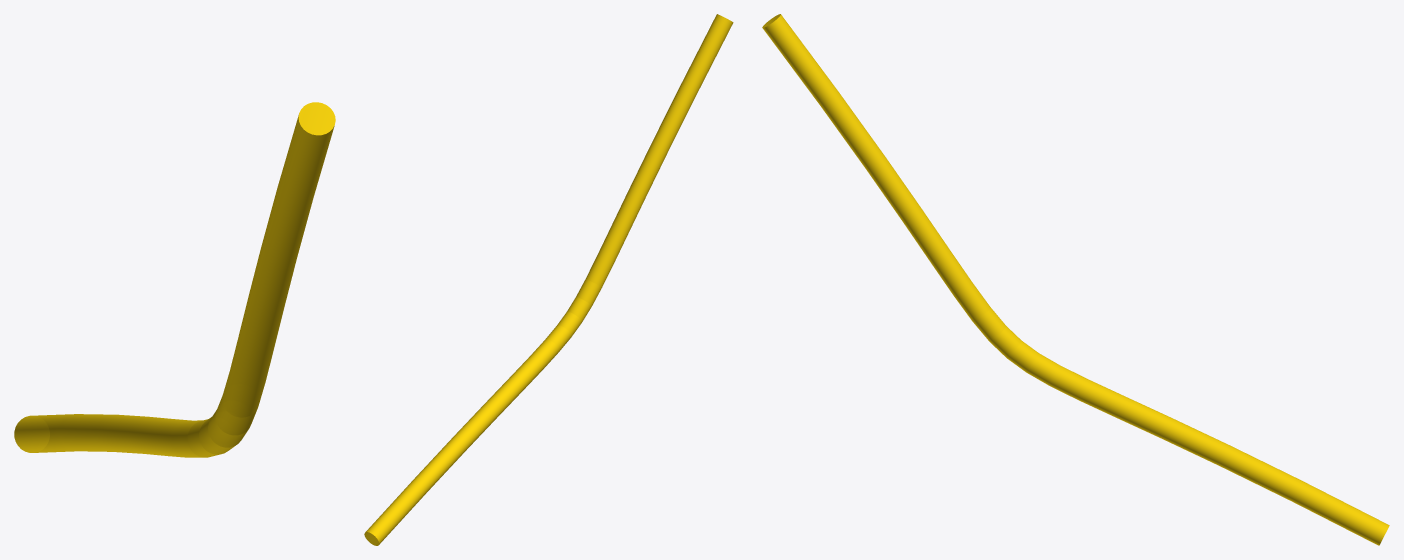
File: Event_421364160_track_79.fbx
3 views of the same model, side by side, from view 1: azimuth 30°, elevation 25°; view 2: azimuth 150°, elevation 25°; view 3: azimuth 270°, elevation 25° (orthographic). The views are drawn at different scales.
Visible parts, largest first — view 1: Model; view 2: Model; view 3: Model.
Boxes of the visible parts, <box> form: Model: <box>14,102,335,457</box>; Model: <box>364,14,733,545</box>; Model: <box>762,14,1389,545</box>.
Size of the model in its own units: 0.2989 by 0.8897 by 1.08.
